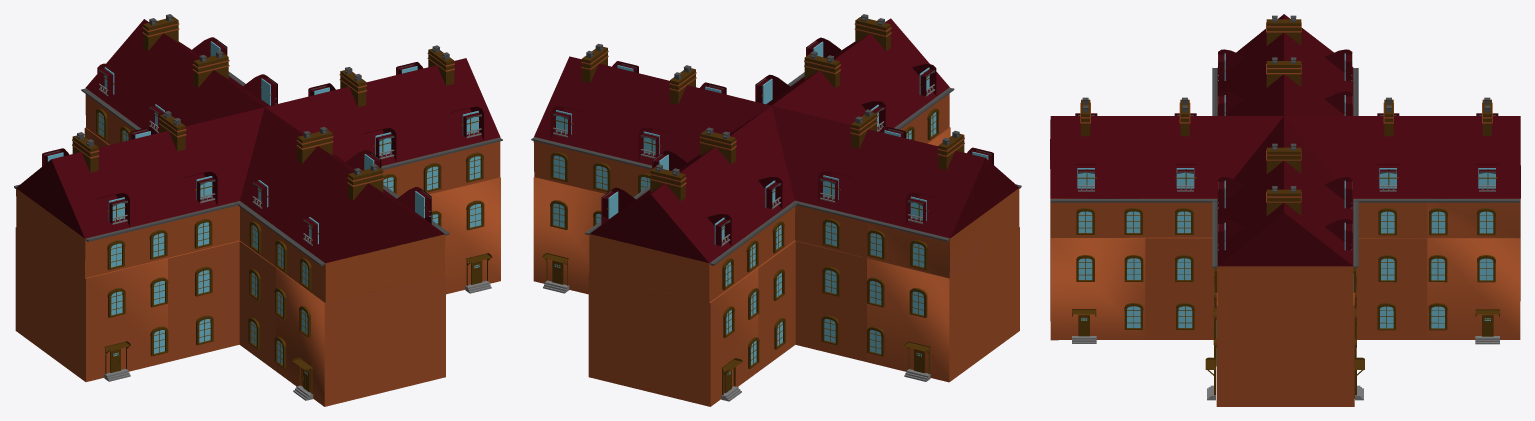
Rendered from ratuszX.fbx.
3 renders of one model, left to right at view 1: azimuth 30°, elevation 25°; view 2: azimuth 150°, elevation 25°; view 3: azimuth 270°, elevation 25°, orthographic. The views are drawn at different scales.
Visible parts, largest first — view 1: Cube.066, Cube.020, Cube, Cube.109, Cube.017, Cube.110, Cube.060, Cube.153, Cube.093, Cube.005, Cube.007, Cube.170 (+28 smaller); view 2: Cube.066, Cube.020, Cube, Cube.109, Cube.017, Cube.110, Cube.152, Cube.126, Cube.096, Cube.147, Cube.164, Cube.005 (+27 smaller); view 3: Cube, Cube.109, Cube.020, Cube.066, Cube.017, Cube.110, Cube.065, Cube.171, Cube.165, Cube.144, Cube.063, Cube.053 (+28 smaller).
Part boxes in pixels (x1,y1,x2,y2): Cube.066: (15,137,500,381); Cube.020: (16,58,500,238); Cube: (84,94,445,406); Cube.109: (85,19,444,263); Cube.017: (14,137,502,241); Cube.110: (81,71,449,265); Cube.060: (396,187,431,223); Cube.153: (242,74,277,105); Cube.093: (465,253,492,293); Cube.005: (297,129,332,163); Cube.007: (193,53,228,87); Cube.170: (348,166,383,200); Cube.066: (533,138,1019,382); Cube.020: (534,56,1019,238); Cube: (588,88,950,406); Cube.109: (590,18,949,263); Cube.017: (531,137,1021,241); Cube.110: (585,72,954,265); Cube.152: (601,187,636,224); Cube.126: (904,341,930,381); Cube.096: (542,253,569,293); Cube.147: (755,74,790,104); Cube.164: (650,167,685,201); Cube.005: (804,54,839,88); Cube: (1050,159,1520,340); Cube.109: (1050,116,1520,198); Cube.020: (1217,14,1353,266); Cube.066: (1216,100,1354,406); Cube.017: (1212,68,1358,267); Cube.110: (1050,199,1519,202); Cube.065: (1266,147,1301,173); Cube.171: (1266,19,1301,45); Cube.165: (1266,189,1301,216); Cube.144: (1475,309,1499,344); Cube.063: (1266,61,1301,87); Cube.053: (1072,309,1096,343).
Size of the model in its own units: 1000 by 488 by 1000.
339 materials, 339 textured.
